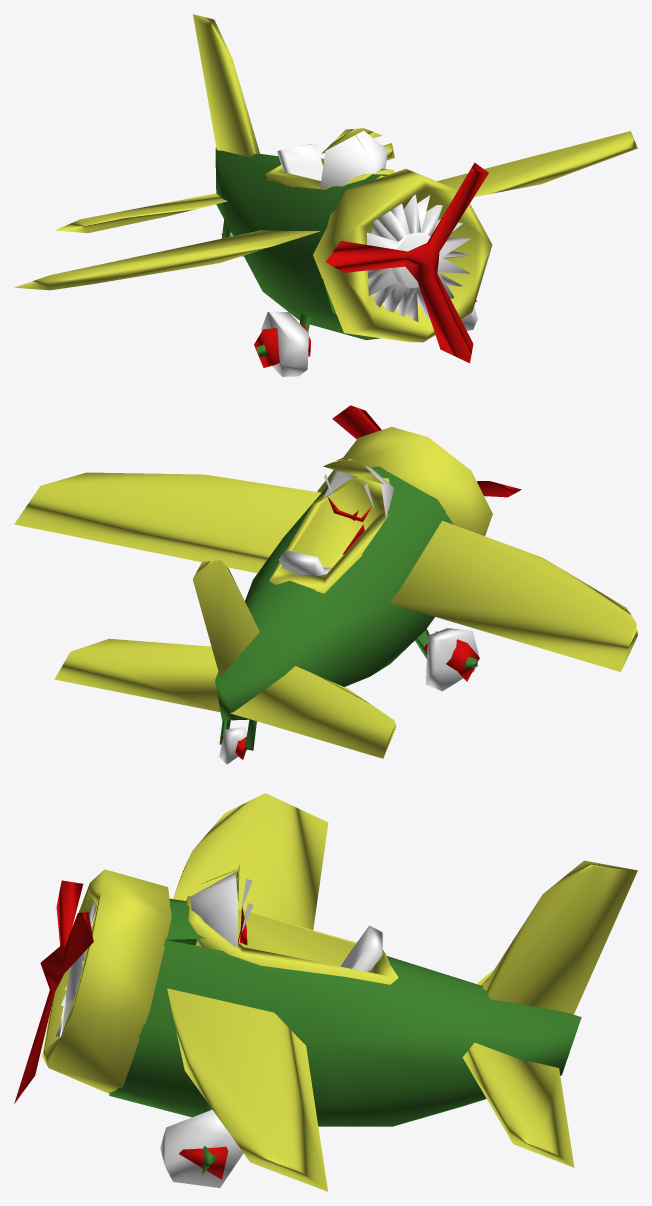
File: plane_verde_LOD2.fbx
The picture shows the model from 3 angles, top to bottom: view 1: azimuth 30°, elevation 25°; view 2: azimuth 150°, elevation 25°; view 3: azimuth 270°, elevation 25°; orthographic projection. The views are drawn at different scales.
Visible parts, largest first — view 1: Object014; view 2: Object014; view 3: Object014.
Part boxes in pixels (x1,y1,x2,y2): Object014: (15,14,637,376); Object014: (14,405,637,764); Object014: (14,793,637,1191).
Size of the model in its own units: 87.26 by 29.92 by 62.4.
